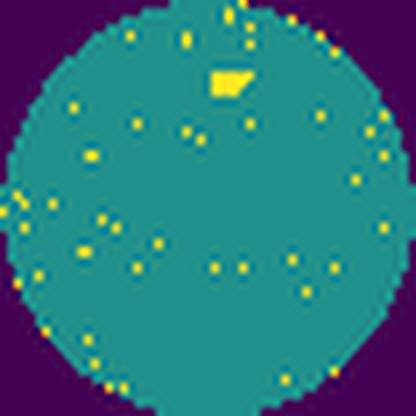Loc: (210, 69, 254, 98)
